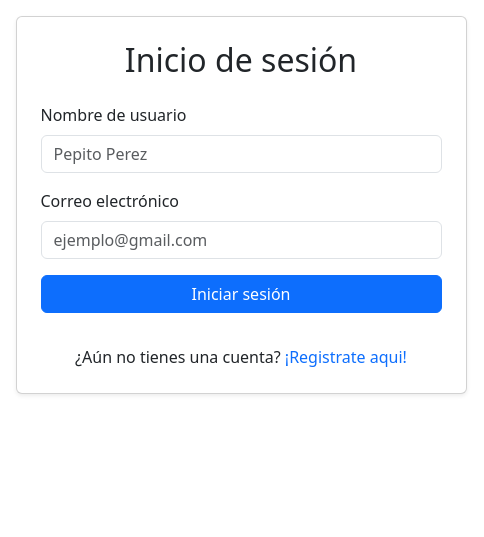
Test: LoginForm › muestra los errores si se envía el formulario vacío
Click the button "Iniciar sesión". click: [241, 294]
box: [40,275,442,313]
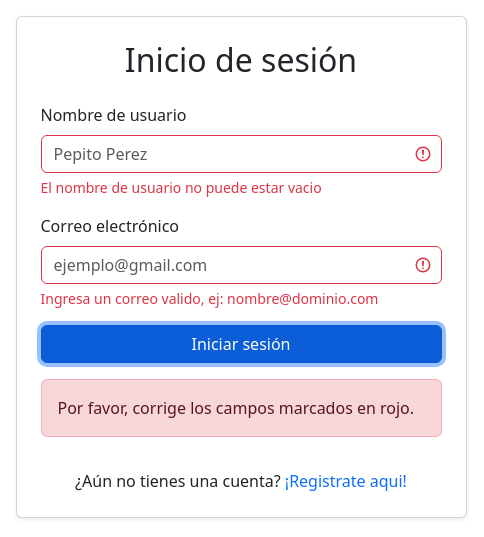
Now the text "El nombre de usuario no puede estar vacio" is shown, box [40,178,322,197]
Now the text "Ingresa un correo valido, ej: nombre@dominio.com" is shown, box [40,289,378,308]
Now the text "Por favor, corrige los campos marcados en rojo." is shown, box [40,379,442,437]
